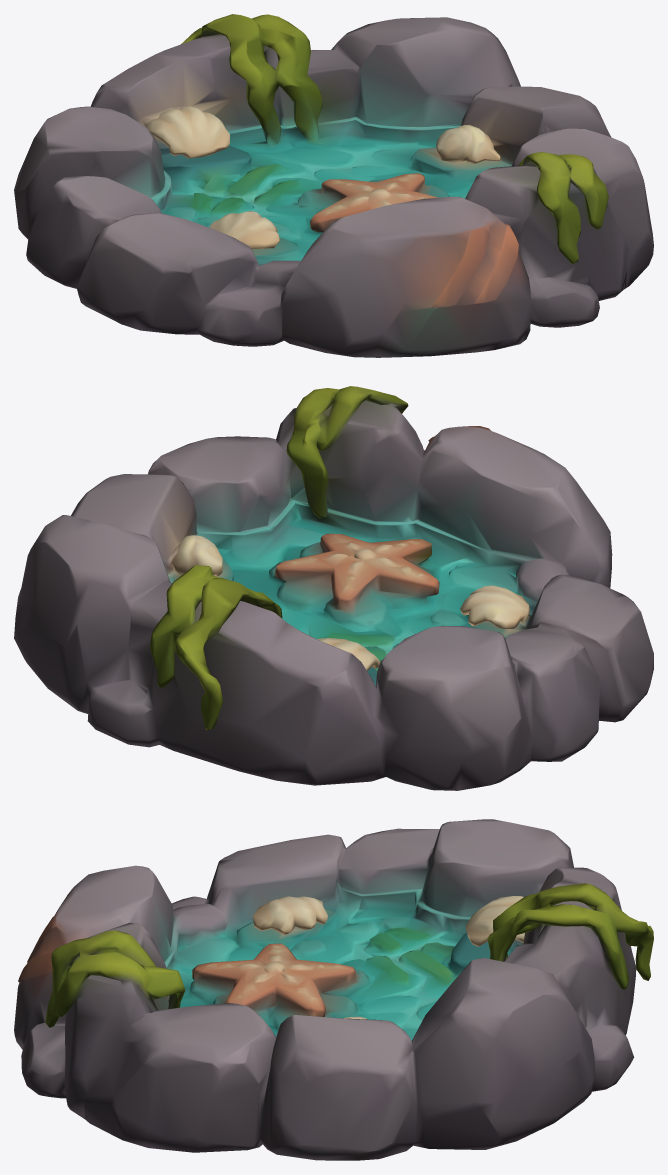
File: tidepool-BhK50kYC.glb
3 views of the same model, one above another, from view 1: azimuth 30°, elevation 25°; view 2: azimuth 150°, elevation 25°; view 3: azimuth 270°, elevation 25° (orthographic). The views are drawn at different scales.
Visible parts, largest first — view 1: tripo_node_2bb0b4fb-d526-45dd-8046-d6e1a264d1f4; view 2: tripo_node_2bb0b4fb-d526-45dd-8046-d6e1a264d1f4; view 3: tripo_node_2bb0b4fb-d526-45dd-8046-d6e1a264d1f4.
Part boxes in pixels (x1=…): tripo_node_2bb0b4fb-d526-45dd-8046-d6e1a264d1f4: x1=14, y1=14, x2=653, y2=357; tripo_node_2bb0b4fb-d526-45dd-8046-d6e1a264d1f4: x1=14, y1=386, x2=653, y2=790; tripo_node_2bb0b4fb-d526-45dd-8046-d6e1a264d1f4: x1=14, y1=819, x2=653, y2=1160.
Size of the model in its own units: 0.9806 by 0.2633 by 0.9759.
